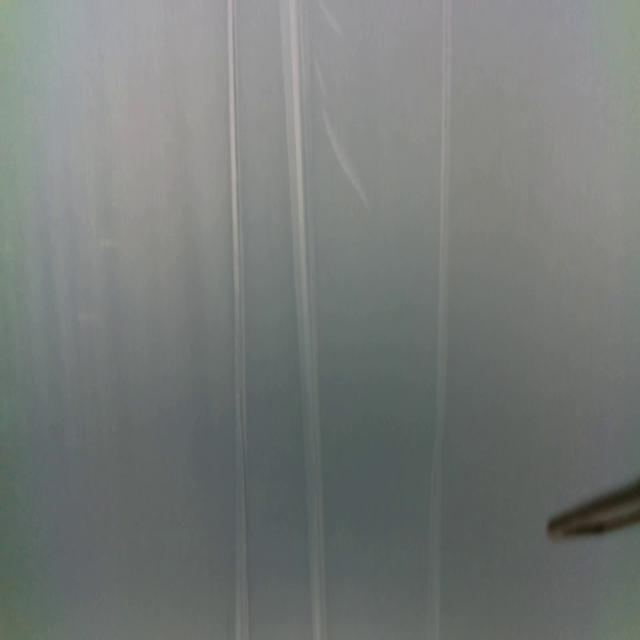crease: (279, 1, 326, 640), (425, 0, 455, 640), (228, 0, 252, 640)
